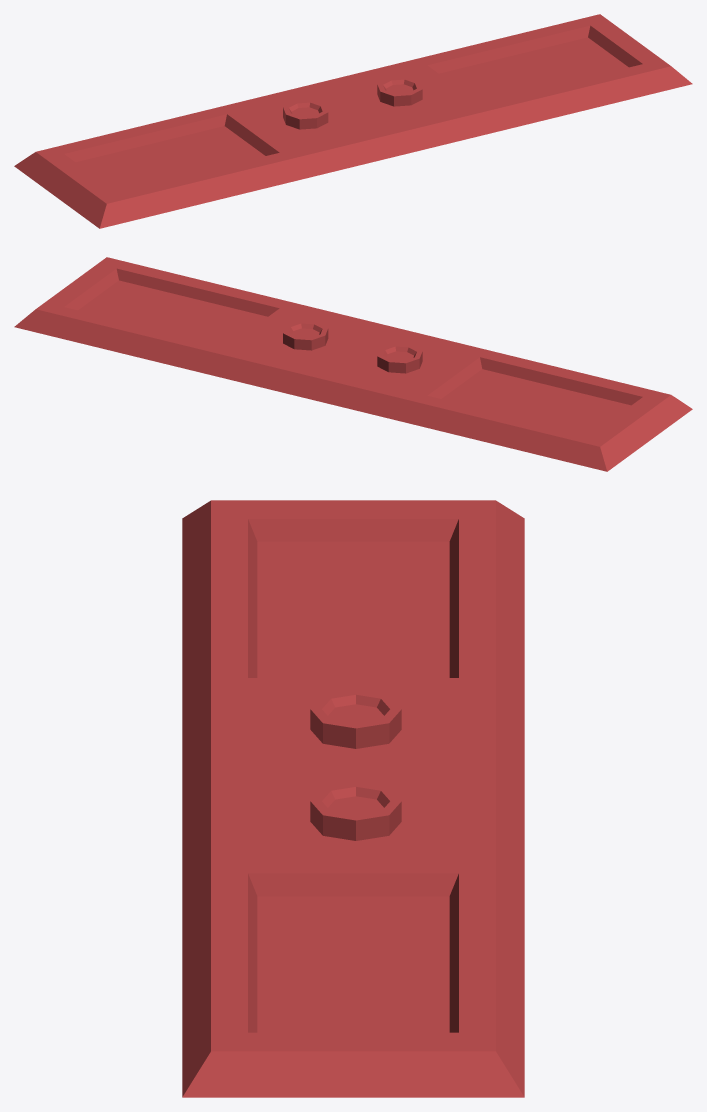
File: SM_VALVE_ROOF_4X1.fbx
The picture shows the model from 3 angles, top to bottom: view 1: azimuth 30°, elevation 25°; view 2: azimuth 150°, elevation 25°; view 3: azimuth 270°, elevation 25°; orthographic projection. The views are drawn at different scales.
Parts seen in each view (by area): view 1: SM_VALVE_ROOF_4X1; view 2: SM_VALVE_ROOF_4X1; view 3: SM_VALVE_ROOF_4X1.
Part boxes in pixels (x1=…): SM_VALVE_ROOF_4X1: x1=14, y1=14, x2=692, y2=228; SM_VALVE_ROOF_4X1: x1=14, y1=257, x2=692, y2=471; SM_VALVE_ROOF_4X1: x1=182, y1=500, x2=524, y2=1097.
Size of the model in its own units: 4 by 0.1702 by 1.
